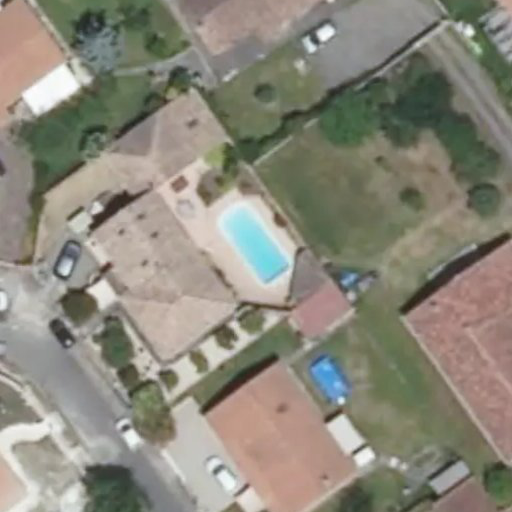pool: (215, 217, 293, 264)
